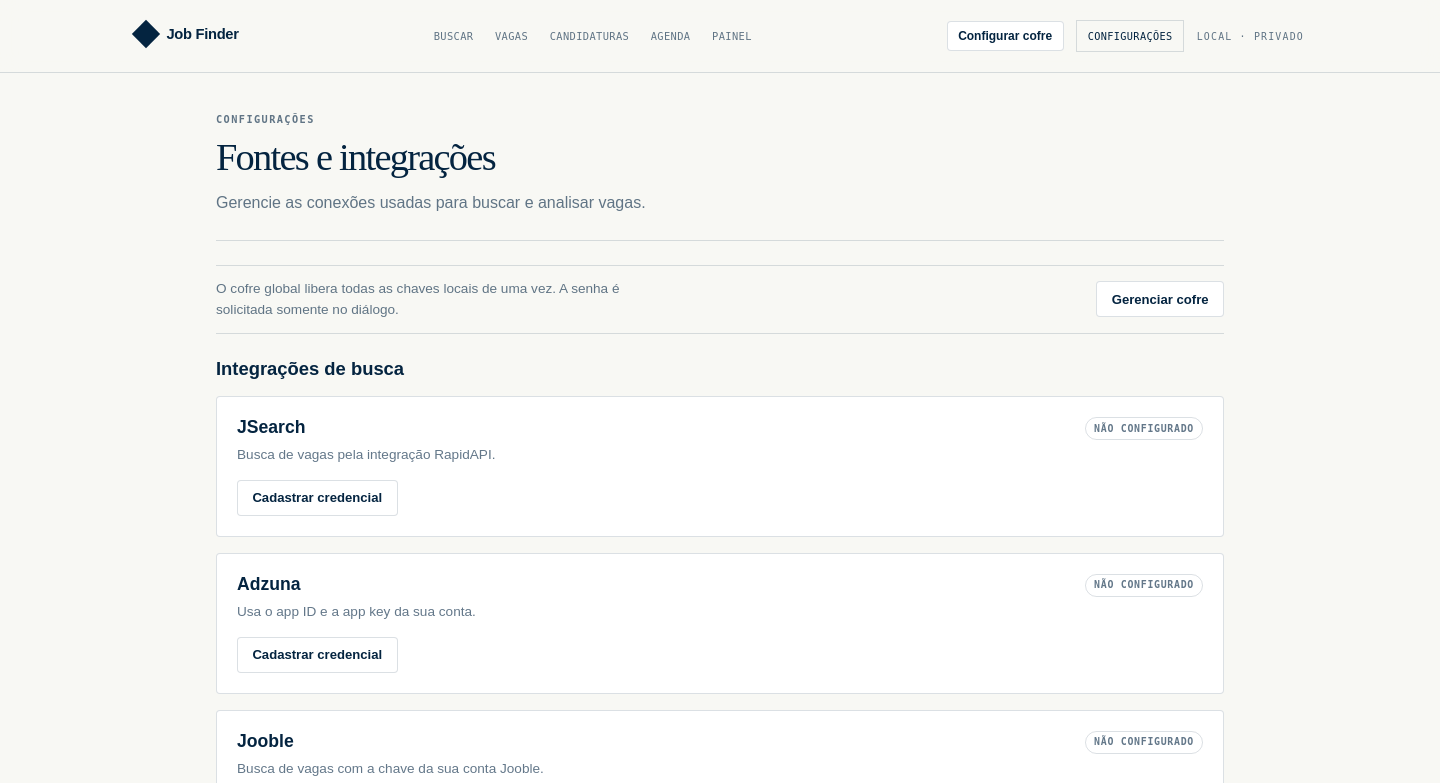
Scenario: App › cria o cofre e retoma o cadastro de provider sem repetir a senha
Check: the field labelled "Crie uma senha para o cofre local" is not shown
Click the button "Cadastrar credencial" below "Busca de vagas pela integração RapidAPI.": click(317, 498) [237,480,398,516]
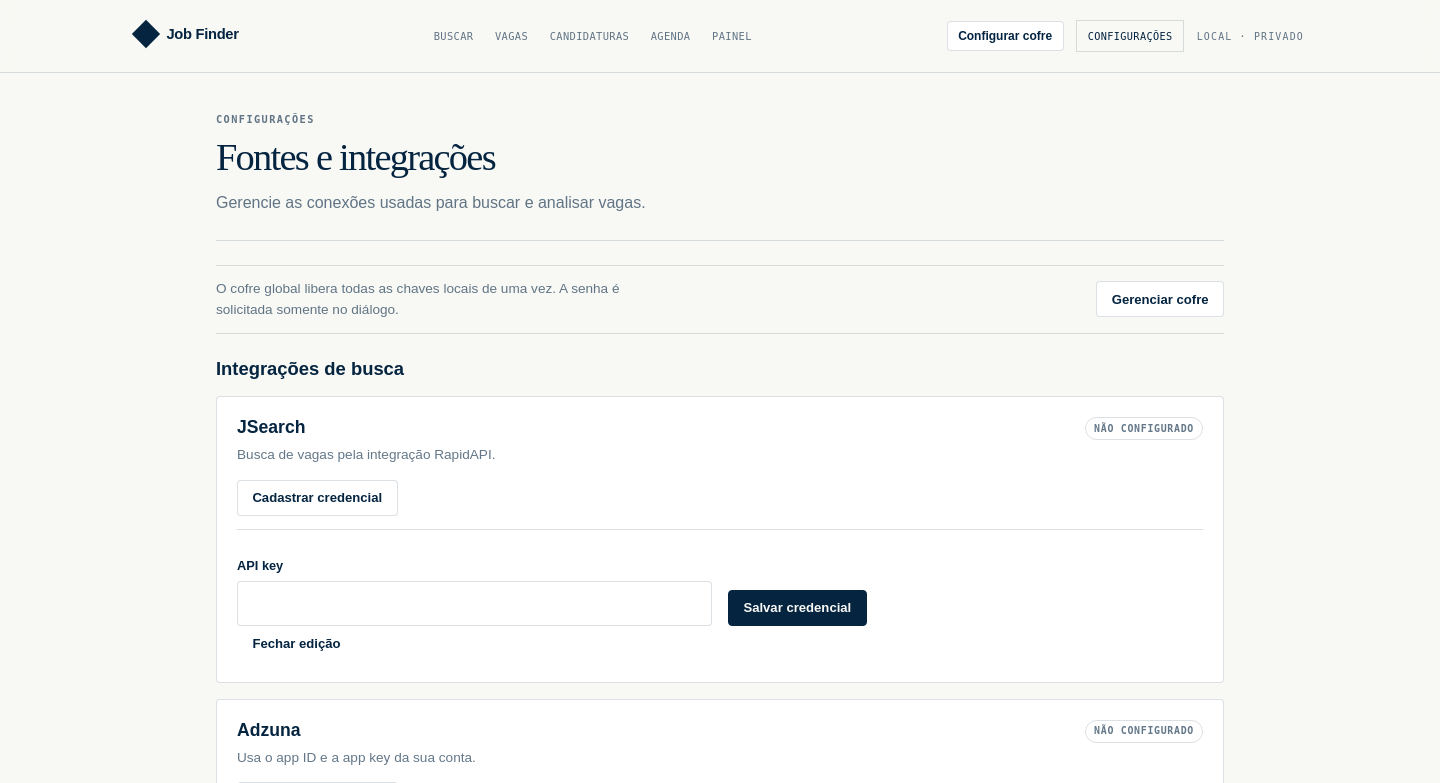
In the password field labelled "API key": (474, 603) [237,580,712,626], type "jsearch-local-key"
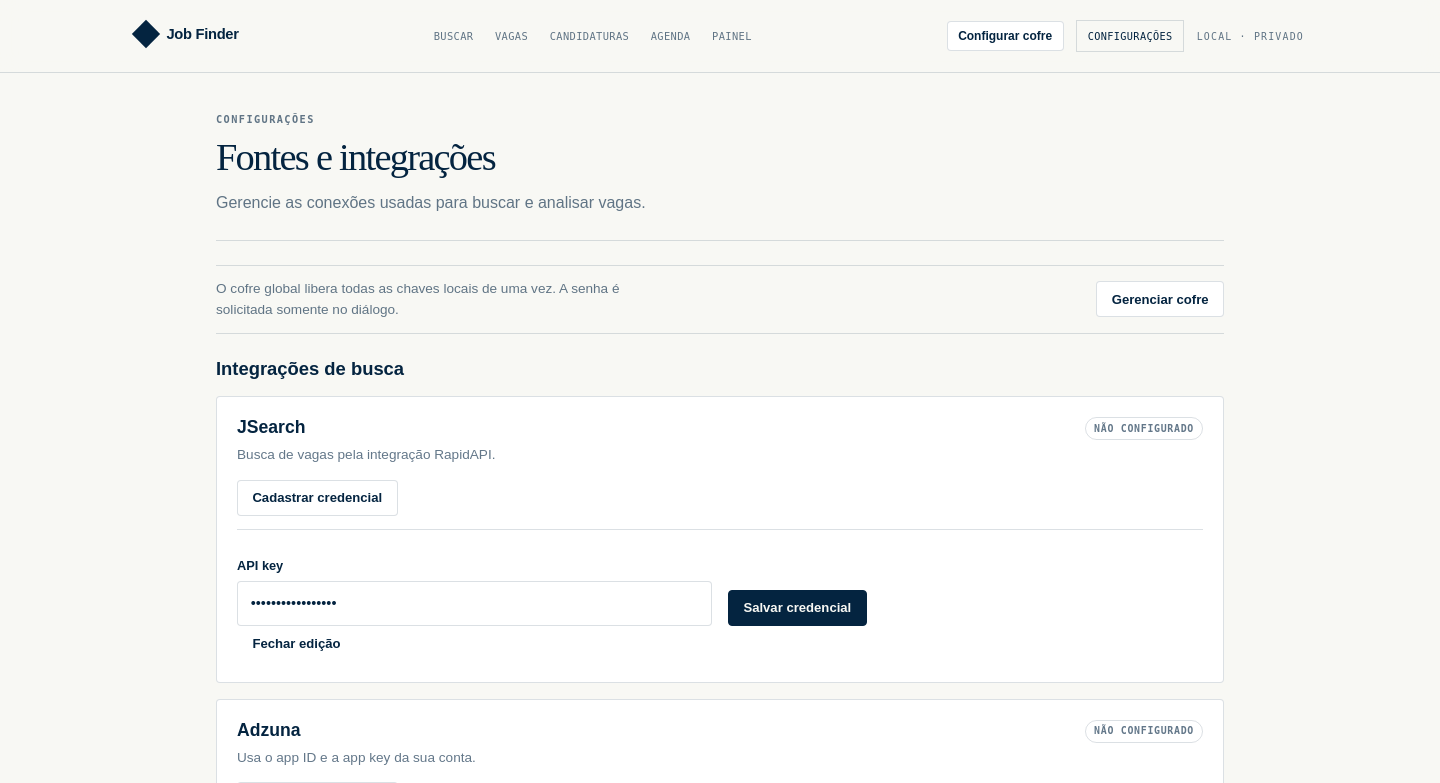
Click the button "Salvar credencial": click(797, 608) [728,590,867,626]
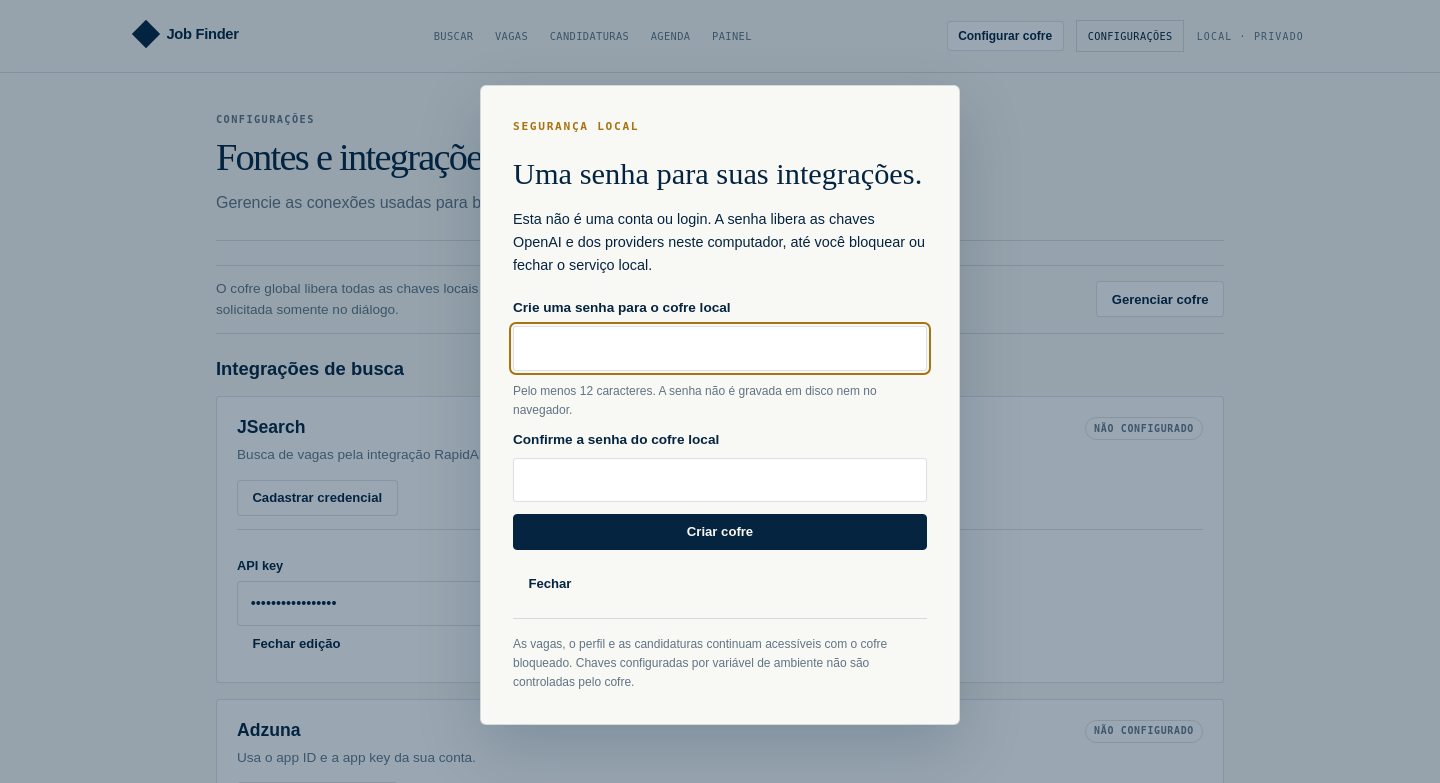
In the password field labelled "Crie uma senha para o cofre local": (720, 348) [513,326,927,371], type "senha local com doze"
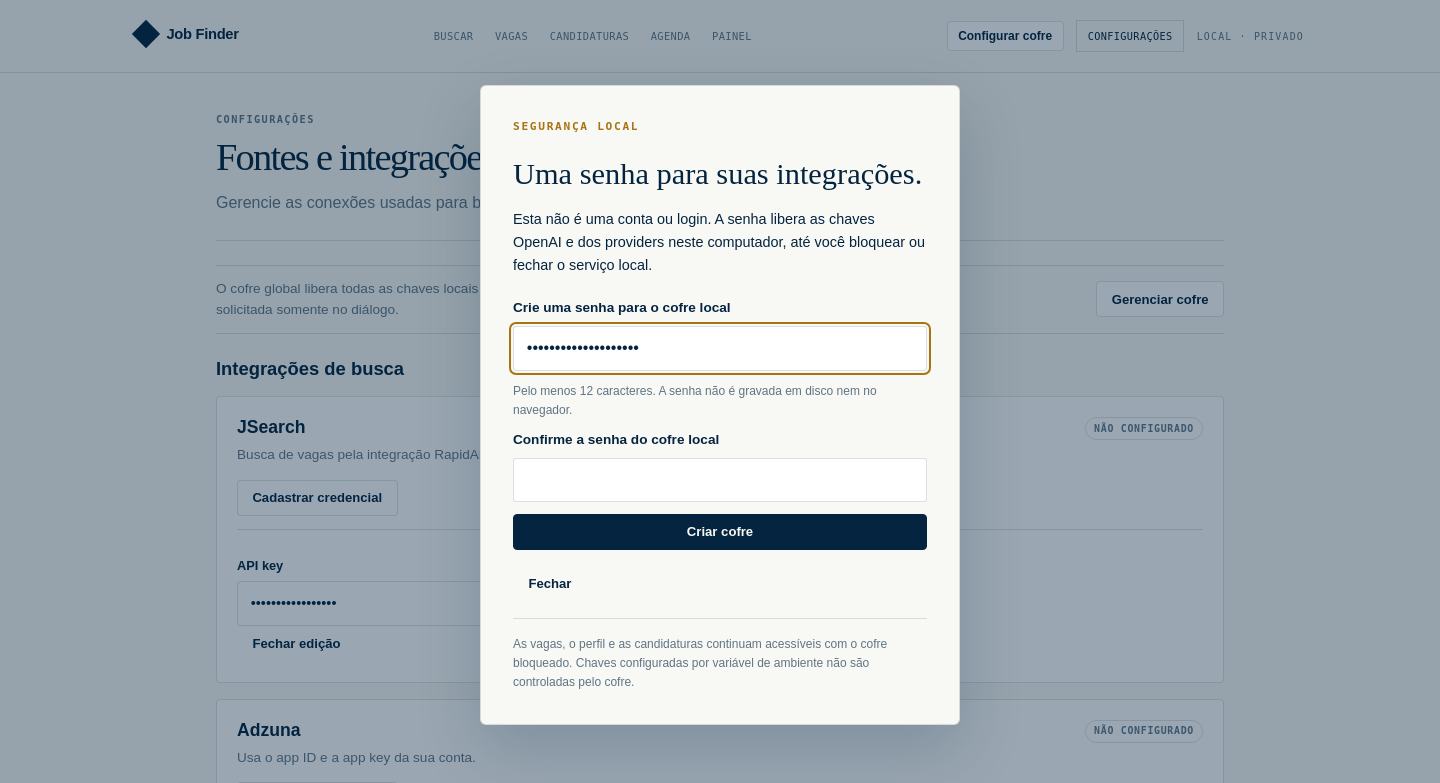
In the password field labelled "Confirme a senha do cofre local": (720, 480) [513,458,927,502], type "senha local com doze"
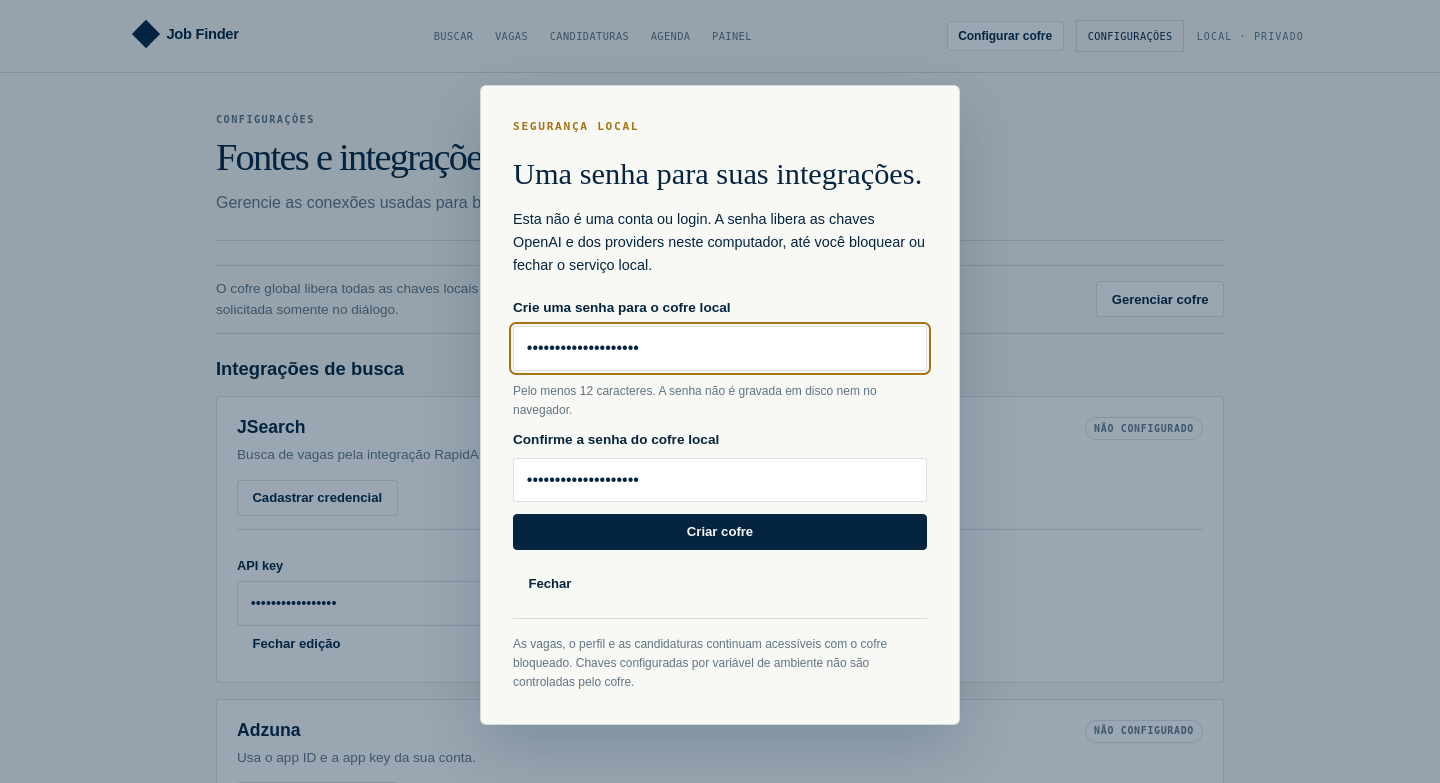
Click the button "Criar cofre": click(720, 532) [513,514,927,550]
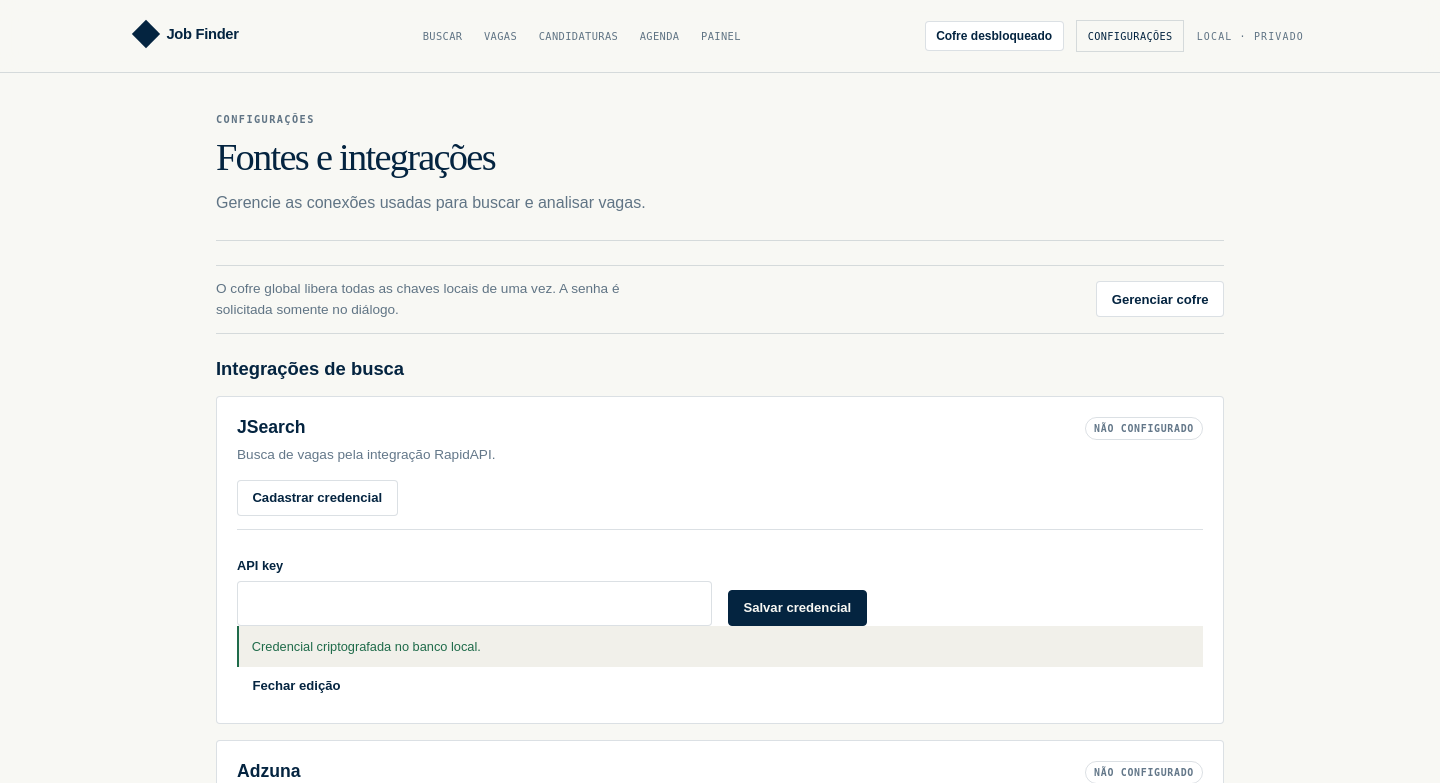
Check: the text "Credencial criptografada no banco local." is shown, box [237,626,1203,667]
